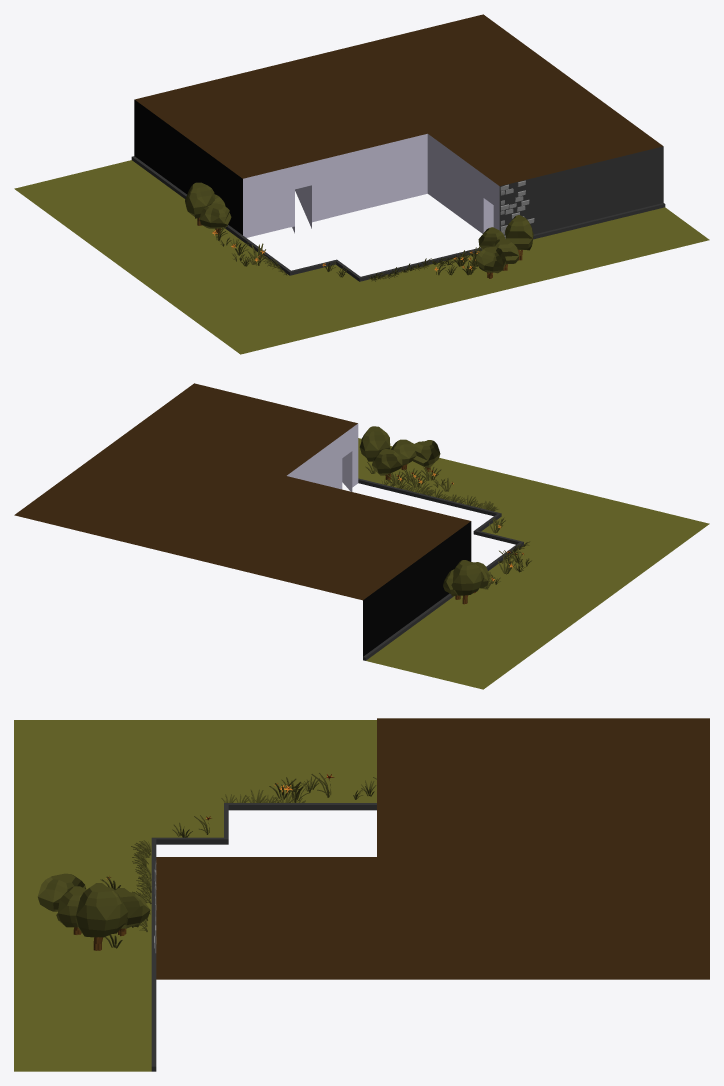
Rendered from Arch_Walls.FBX.
3 renders of one model, top to bottom at view 1: azimuth 30°, elevation 25°; view 2: azimuth 150°, elevation 25°; view 3: azimuth 270°, elevation 25°, orthographic. The views are drawn at different scales.
Visible parts, largest first — view 1: Arch_Walls; view 2: Arch_Walls; view 3: Arch_Walls.
Boxes of the visible parts, x1,y1,x2,y2 form: Arch_Walls: (14, 14, 709, 354); Arch_Walls: (14, 383, 709, 689); Arch_Walls: (14, 718, 709, 1071).
Bounding box in the file's own units: 3754 × 516 × 3138.
Materials: 1 (1 with a texture image).
